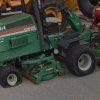Tractor: (5, 2, 100, 84)
